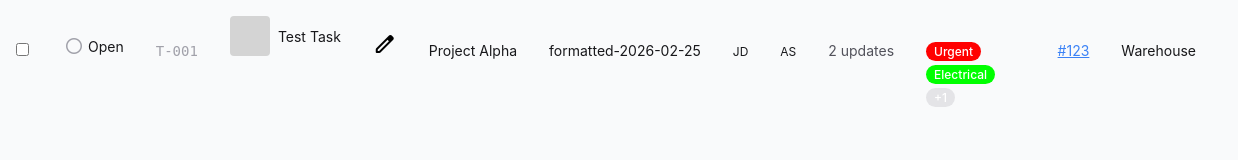
<TaskTableRow /> › handles save error gracefully
// Start editing
Click the button "Edit" at (385, 46), box x1=373 y1=32 x2=397 y2=59
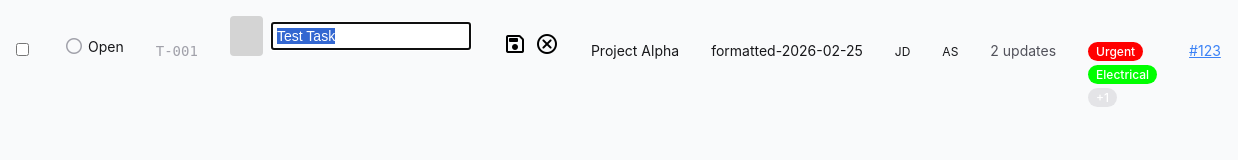
// Change title
Replace the text in the field showing "Test Task" with "Updated Task Title" at (371, 36), box x1=271 y1=22 x2=471 y2=50
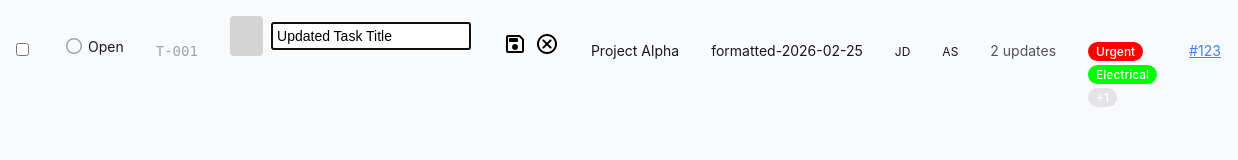
// Save (should fail)
Click the button "Save" at (515, 46), box x1=503 y1=32 x2=527 y2=59
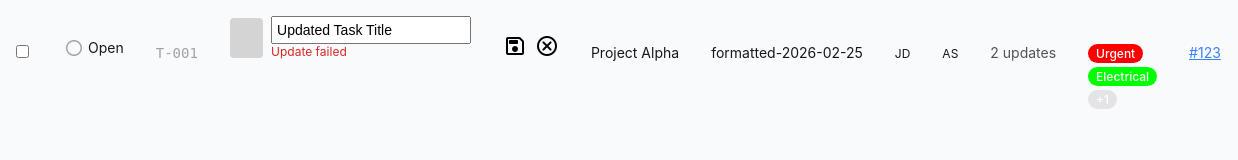
Expected: the text "Update failed" is shown, x1=271 y1=44 x2=347 y2=59
